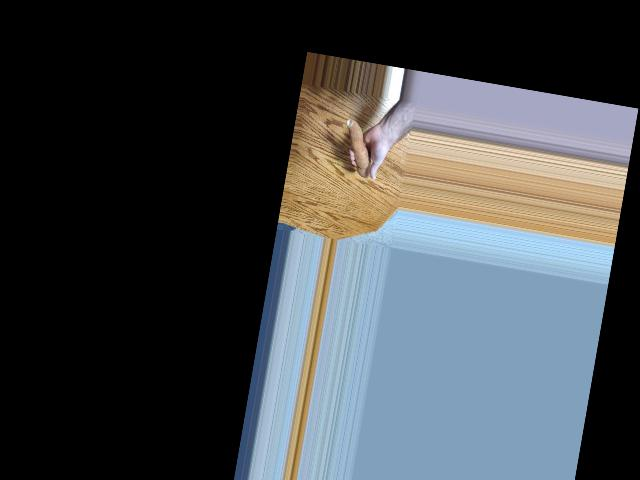sweet_potato: (338, 117, 376, 180)
